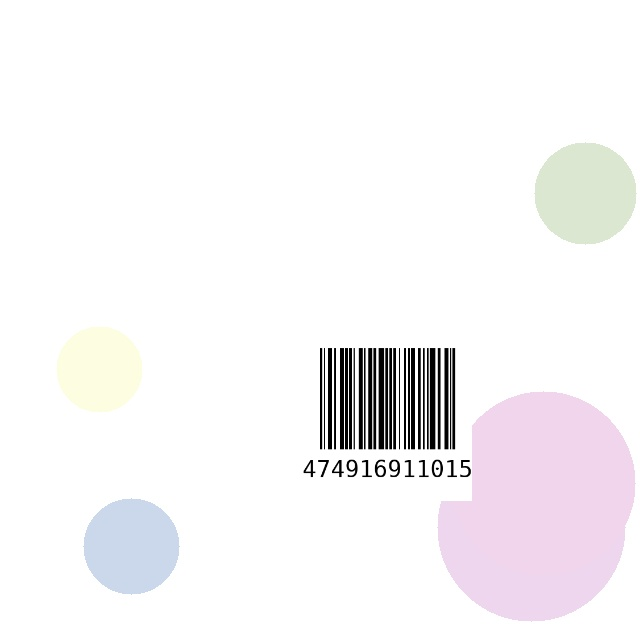barcode: (303, 342, 472, 501)
